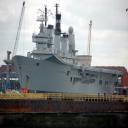Portanaves: (4, 4, 125, 96)
